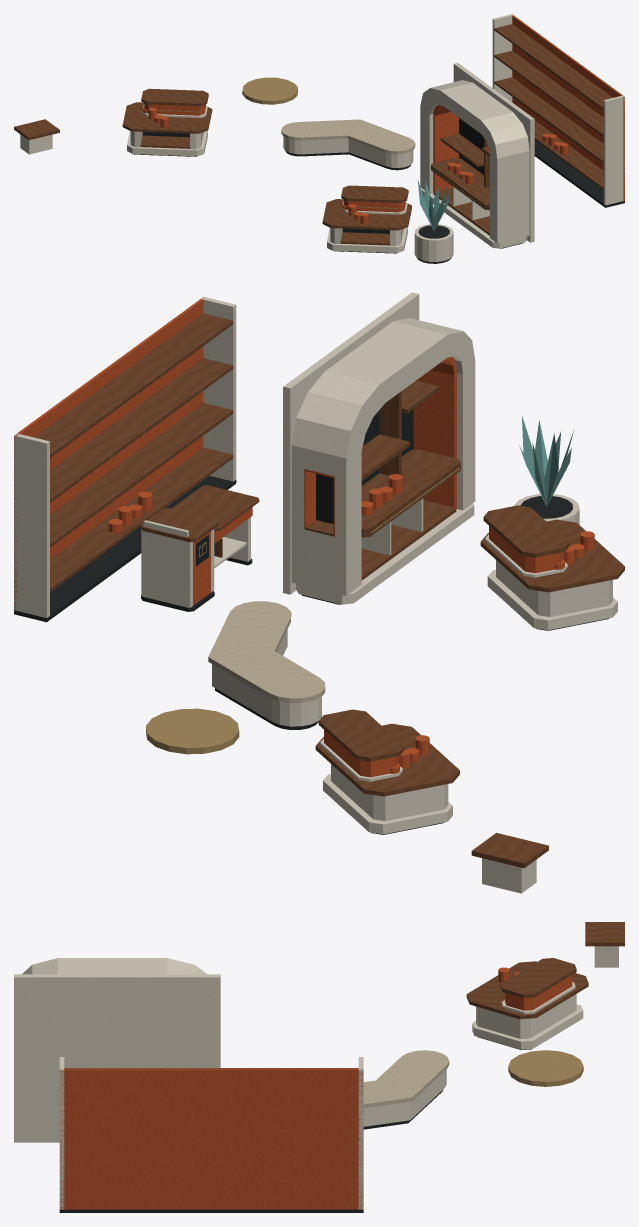
The model's file is SHOP_D09_S100_F262__fitout.glb.
3 renders of one model, top to bottom at view 1: azimuth 30°, elevation 25°; view 2: azimuth 150°, elevation 25°; view 3: azimuth 270°, elevation 25°, orthographic. The views are drawn at different scales.
Visible parts, largest first — view 1: SHOP_D09_S100_F262__fitout__ivory_enamel, SHOP_D09_S100_F262__fitout__warm_walnut, SHOP_D09_S100_F262__fitout__retail_terracotta_enamel, SHOP_D09_S100_F262__fitout__dark_rubber, SHOP_D09_S100_F262__fitout__oatmeal_weave, SHOP_D09_S100_F262__fitout__champagne_metal, SHOP_D09_S100_F262__fitout__quiet_teal; view 2: SHOP_D09_S100_F262__fitout__ivory_enamel, SHOP_D09_S100_F262__fitout__warm_walnut, SHOP_D09_S100_F262__fitout__retail_terracotta_enamel, SHOP_D09_S100_F262__fitout__dark_rubber, SHOP_D09_S100_F262__fitout__oatmeal_weave, SHOP_D09_S100_F262__fitout__champagne_metal, SHOP_D09_S100_F262__fitout__quiet_teal; view 3: SHOP_D09_S100_F262__fitout__retail_terracotta_enamel, SHOP_D09_S100_F262__fitout__ivory_enamel, SHOP_D09_S100_F262__fitout__warm_walnut, SHOP_D09_S100_F262__fitout__oatmeal_weave, SHOP_D09_S100_F262__fitout__champagne_metal, SHOP_D09_S100_F262__fitout__dark_rubber.
Boxes of the visible parts, bbox=[...] form: SHOP_D09_S100_F262__fitout__ivory_enamel: bbox=[20, 14, 624, 261]; SHOP_D09_S100_F262__fitout__warm_walnut: bbox=[14, 24, 612, 245]; SHOP_D09_S100_F262__fitout__retail_terracotta_enamel: bbox=[142, 14, 624, 224]; SHOP_D09_S100_F262__fitout__dark_rubber: bbox=[133, 118, 624, 263]; SHOP_D09_S100_F262__fitout__oatmeal_weave: bbox=[281, 119, 415, 154]; SHOP_D09_S100_F262__fitout__champagne_metal: bbox=[157, 77, 484, 208]; SHOP_D09_S100_F262__fitout__quiet_teal: bbox=[417, 179, 450, 231]; SHOP_D09_S100_F262__fitout__ivory_enamel: bbox=[14, 292, 617, 893]; SHOP_D09_S100_F262__fitout__warm_walnut: bbox=[34, 313, 624, 868]; SHOP_D09_S100_F262__fitout__retail_terracotta_enamel: bbox=[14, 297, 594, 777]; SHOP_D09_S100_F262__fitout__dark_rubber: bbox=[14, 409, 609, 834]; SHOP_D09_S100_F262__fitout__oatmeal_weave: bbox=[208, 601, 325, 703]; SHOP_D09_S100_F262__fitout__champagne_metal: bbox=[146, 467, 459, 754]; SHOP_D09_S100_F262__fitout__quiet_teal: bbox=[519, 416, 574, 506]; SHOP_D09_S100_F262__fitout__retail_terracotta_enamel: bbox=[59, 967, 572, 1209]; SHOP_D09_S100_F262__fitout__ivory_enamel: bbox=[14, 946, 618, 1209]; SHOP_D09_S100_F262__fitout__warm_walnut: bbox=[64, 922, 624, 1068]; SHOP_D09_S100_F262__fitout__oatmeal_weave: bbox=[363, 1050, 449, 1108]; SHOP_D09_S100_F262__fitout__champagne_metal: bbox=[508, 1050, 583, 1086]; SHOP_D09_S100_F262__fitout__dark_rubber: bbox=[59, 1037, 531, 1212].
Bounding box in the file's own units: 10.25 × 3 × 10.05.
Materials: 7 (6 with a texture image).
